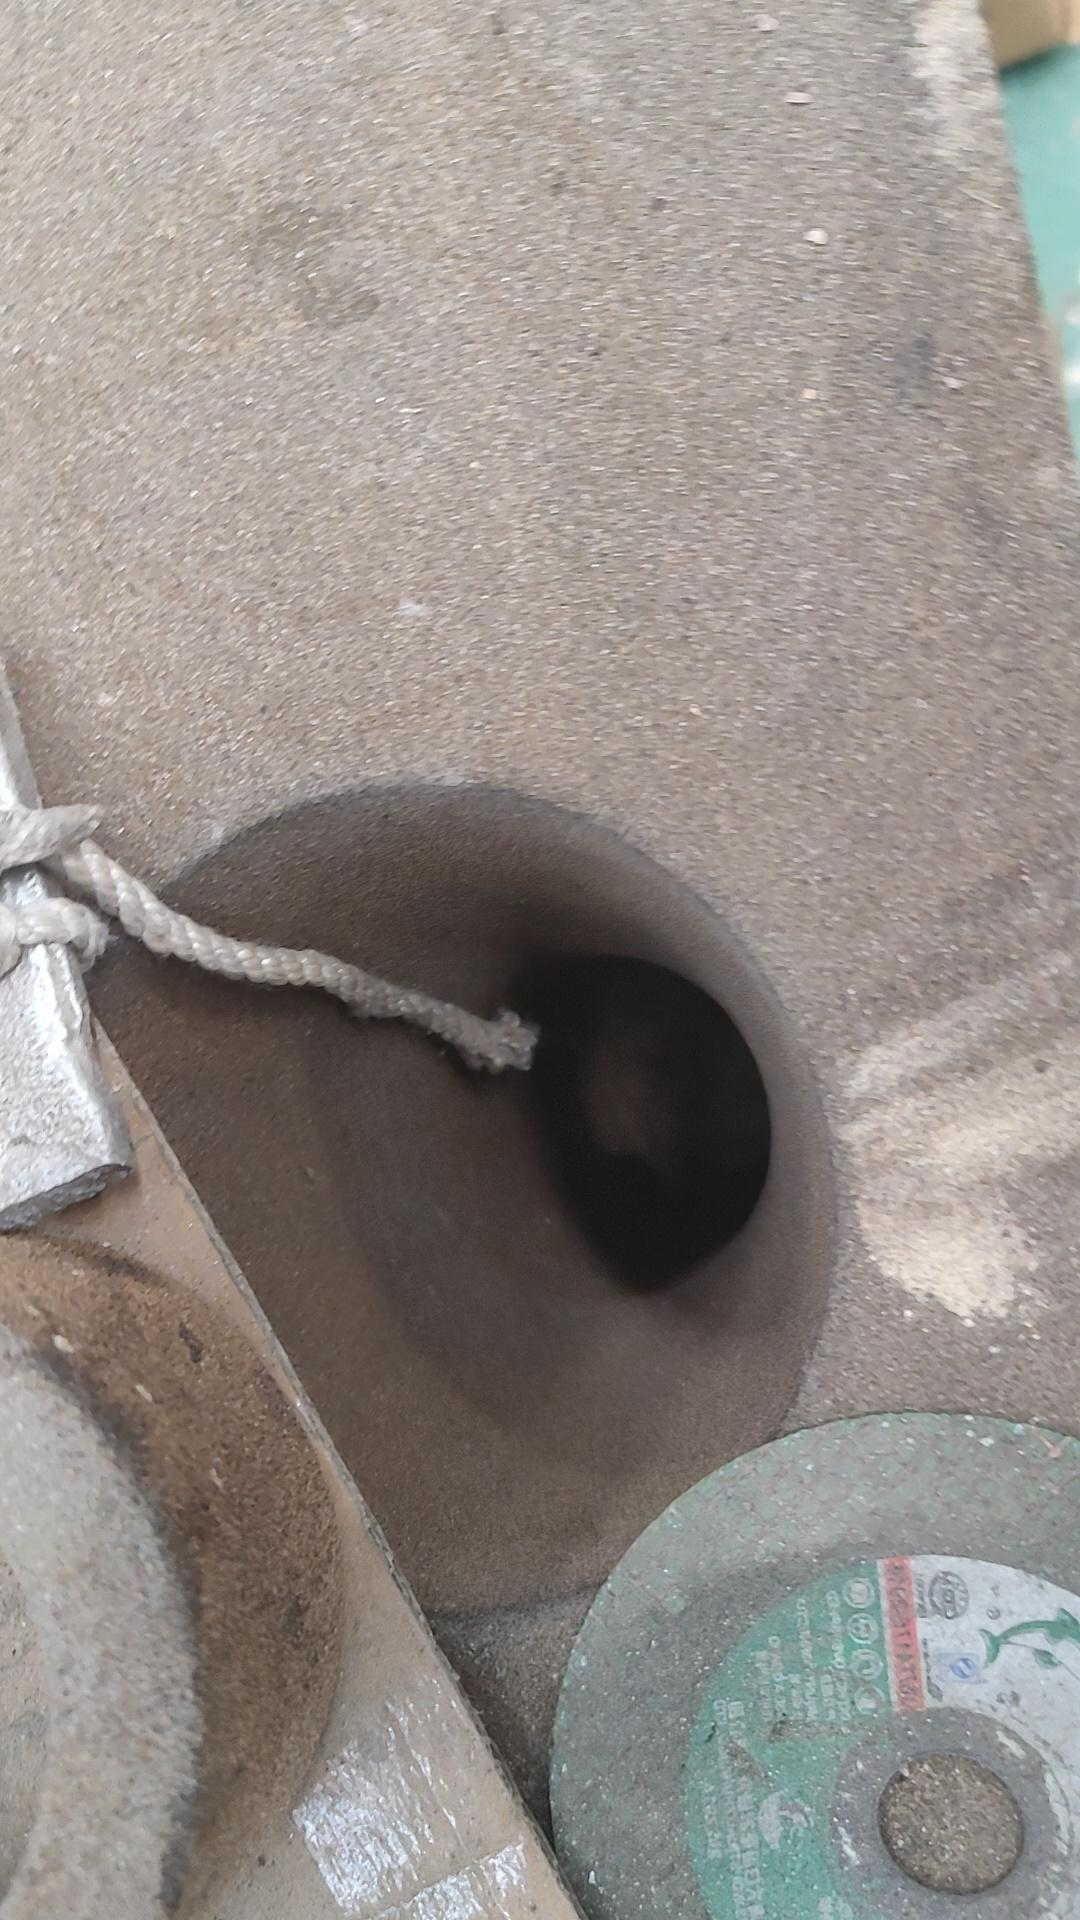pouring hole: (71, 778, 843, 1615)
